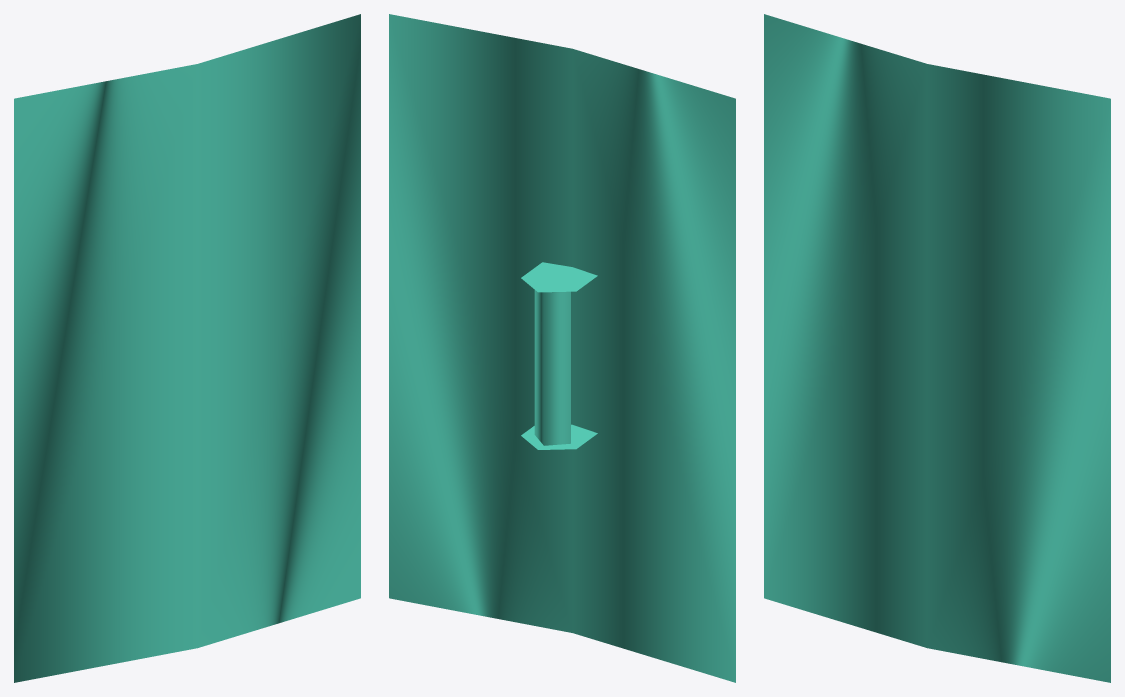
The model's file is chin_boardshield.dae.
The picture shows the model from 3 angles, left to right: view 1: azimuth 30°, elevation 25°; view 2: azimuth 150°, elevation 25°; view 3: azimuth 330°, elevation 25°; orthographic projection.
Parts seen in each view (by area): view 1: Plane02_node; view 2: Plane02_node; view 3: Plane02_node.
Part boxes in pixels (box(x1,y1,x2,y2)): Plane02_node: box(14, 14, 360, 682); Plane02_node: box(389, 14, 735, 682); Plane02_node: box(764, 14, 1110, 682).
Bounding box in the file's own units: 1.13 × 0.1957 × 1.82.
